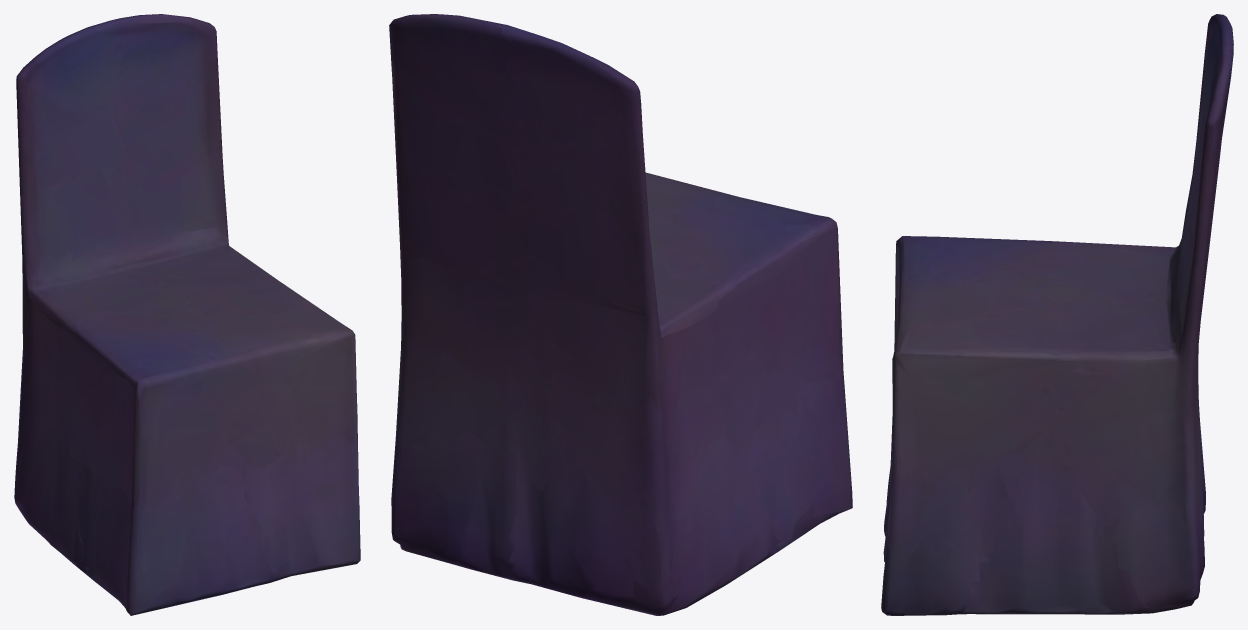
File: kursi_hitam_lod2.glb
The picture shows the model from 3 angles, left to right: view 1: azimuth 30°, elevation 25°; view 2: azimuth 150°, elevation 25°; view 3: azimuth 270°, elevation 25°; orthographic projection. The views are drawn at different scales.
Visible parts, largest first — view 1: tripo_node_86da7ef2-7ed9-4f99-a44d-5009c0f1829b; view 2: tripo_node_86da7ef2-7ed9-4f99-a44d-5009c0f1829b; view 3: tripo_node_86da7ef2-7ed9-4f99-a44d-5009c0f1829b.
Part boxes in pixels (left/top/right/bottom): tripo_node_86da7ef2-7ed9-4f99-a44d-5009c0f1829b: left=14, top=14, right=360, bottom=615; tripo_node_86da7ef2-7ed9-4f99-a44d-5009c0f1829b: left=389, top=14, right=852, bottom=615; tripo_node_86da7ef2-7ed9-4f99-a44d-5009c0f1829b: left=881, top=14, right=1233, bottom=615.
Size of the model in its own units: 0.5349 by 1 by 0.6096.
1 material, 1 textured.
